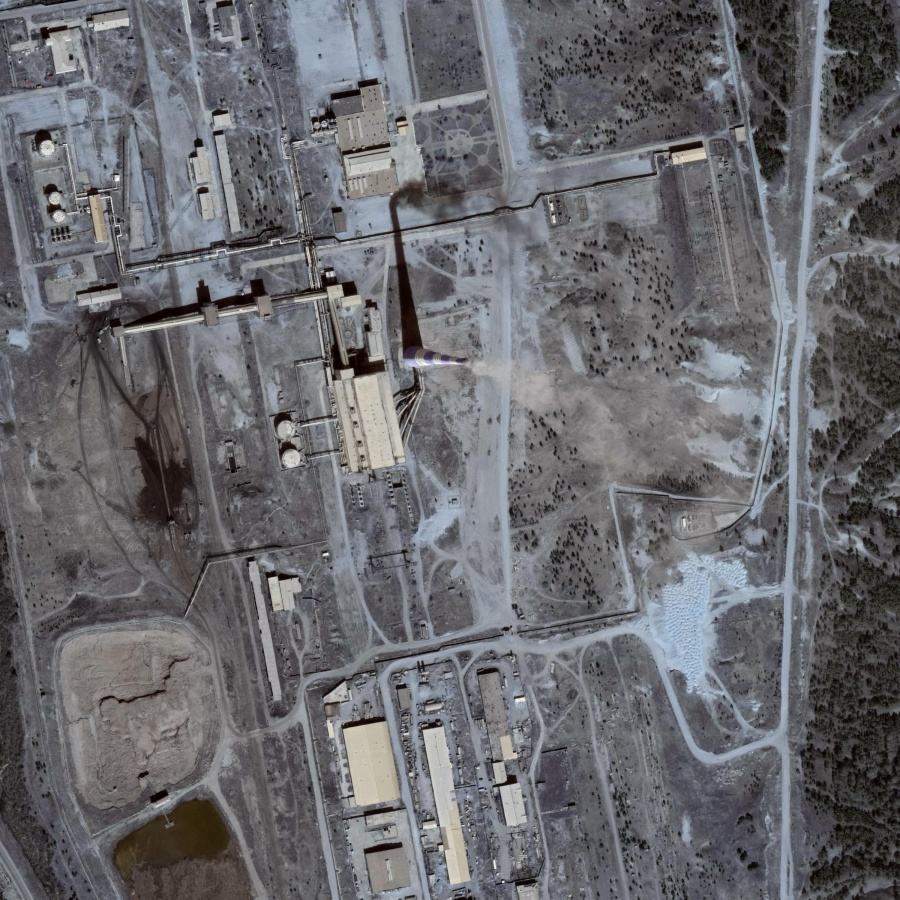PowerPlant: (14, 116, 492, 544)
